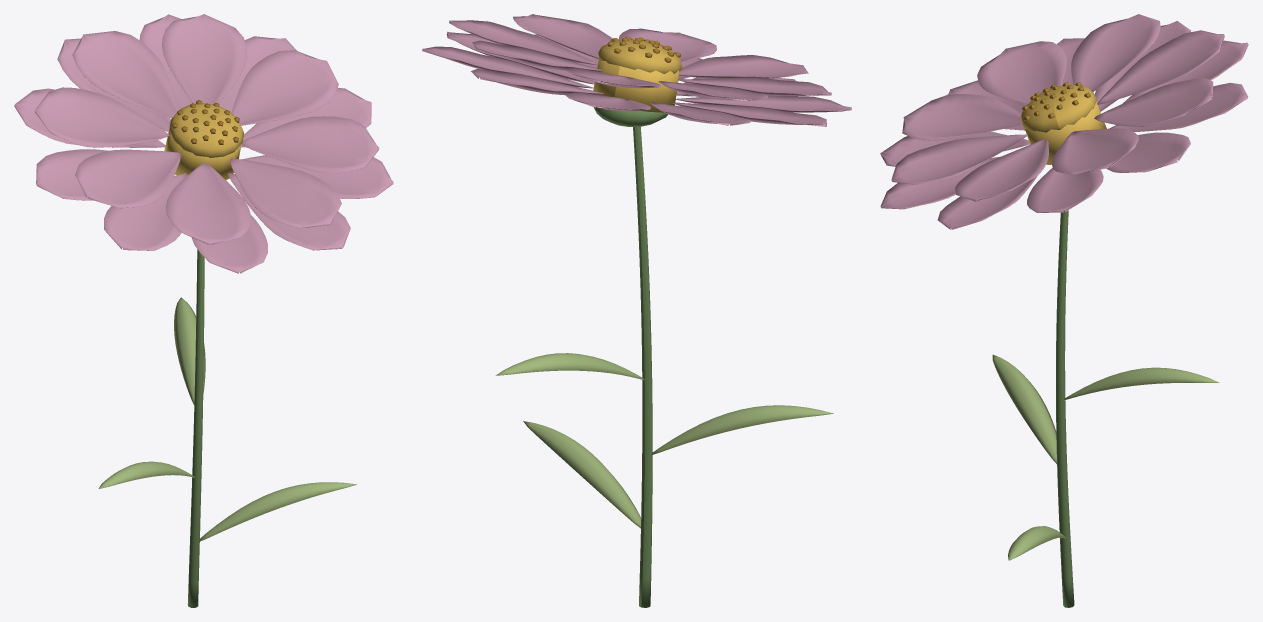
The model's file is cosmos-epic-v2.glb.
3 views of the same model, side by side, from view 1: azimuth 30°, elevation 25°; view 2: azimuth 150°, elevation 25°; view 3: azimuth 270°, elevation 25° (orthographic). The views are drawn at different scales.
Parts seen in each view (by area): view 1: cosmos-epic-v2-petal, cosmos-epic-v2-leaf, cosmos-epic-v2-center, cosmos-epic-v2-stem, cosmos-epic-v2-pollen; view 2: cosmos-epic-v2-petal, cosmos-epic-v2-leaf, cosmos-epic-v2-stem, cosmos-epic-v2-center, cosmos-epic-v2-pollen; view 3: cosmos-epic-v2-petal, cosmos-epic-v2-leaf, cosmos-epic-v2-stem, cosmos-epic-v2-center, cosmos-epic-v2-pollen.
Part boxes in pixels (<box>): cosmos-epic-v2-petal: <box>14,14,393,273</box>; cosmos-epic-v2-leaf: <box>98,297,356,541</box>; cosmos-epic-v2-center: <box>164,103,243,179</box>; cosmos-epic-v2-stem: <box>187,249,204,607</box>; cosmos-epic-v2-pollen: <box>171,100,239,144</box>; cosmos-epic-v2-petal: <box>422,14,851,126</box>; cosmos-epic-v2-leaf: <box>495,353,833,528</box>; cosmos-epic-v2-stem: <box>593,107,667,607</box>; cosmos-epic-v2-center: <box>593,39,682,112</box>; cosmos-epic-v2-pollen: <box>607,36,680,62</box>; cosmos-epic-v2-petal: <box>880,14,1248,229</box>; cosmos-epic-v2-leaf: <box>992,354,1219,560</box>; cosmos-epic-v2-stem: <box>1056,210,1074,607</box>; cosmos-epic-v2-center: <box>1021,85,1106,164</box>; cosmos-epic-v2-pollen: <box>1022,82,1090,120</box>.
Size of the model in its own units: 1.22 by 1.83 by 1.11.
